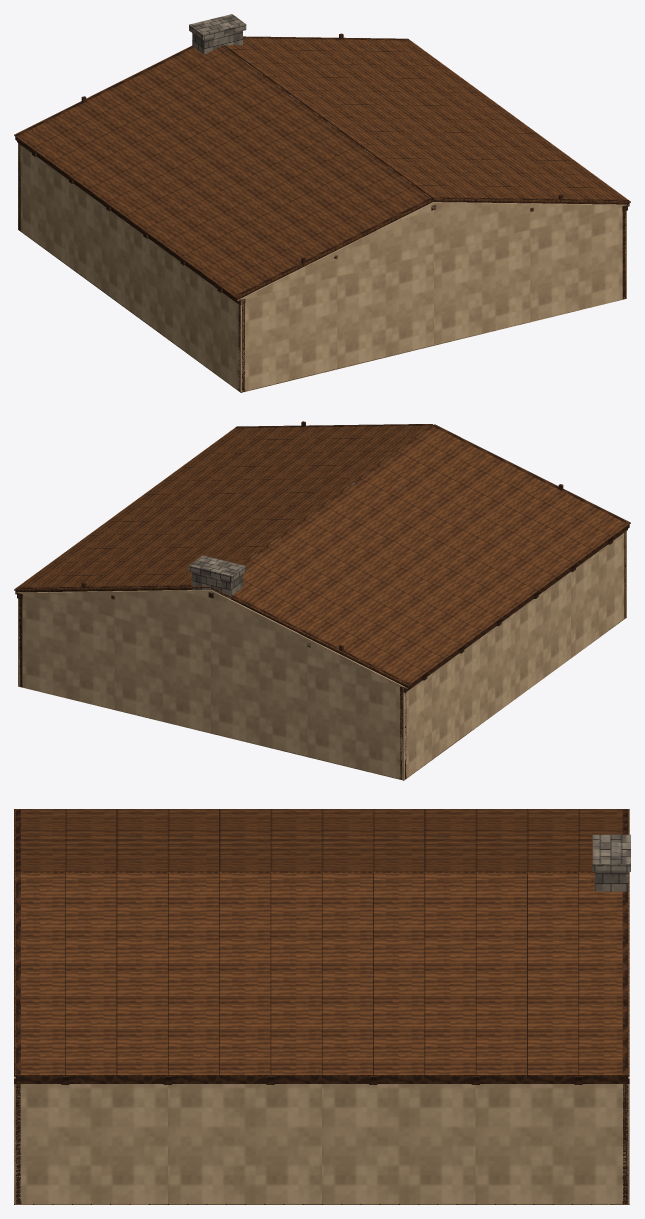
File: kitchen_room.glb
3 renders of one model, top to bottom at view 1: azimuth 30°, elevation 25°; view 2: azimuth 150°, elevation 25°; view 3: azimuth 270°, elevation 25°, orthographic. The views are drawn at different scales.
Parts seen in each view (by area): view 1: Room_K_floorplank, Room_K_plaster, Room_K_darkwood, Room_K_stone, Room_K_tile; view 2: Room_K_floorplank, Room_K_plaster, Room_K_darkwood, Room_K_stone, Room_K_tile; view 3: Room_K_floorplank, Room_K_plaster, Room_K_darkwood, Room_K_stone, Room_K_tile.
Boxes of the visible parts, x1,y1,x2,y2 form: Room_K_floorplank: [14, 36, 630, 298]; Room_K_plaster: [18, 60, 629, 392]; Room_K_darkwood: [15, 33, 629, 392]; Room_K_stone: [189, 14, 246, 60]; Room_K_tile: [18, 149, 626, 392]; Room_K_floorplank: [14, 424, 630, 686]; Room_K_plaster: [15, 431, 626, 779]; Room_K_darkwood: [15, 421, 629, 779]; Room_K_stone: [189, 555, 246, 599]; Room_K_tile: [18, 537, 626, 780]; Room_K_floorplank: [14, 809, 629, 1076]; Room_K_plaster: [14, 1076, 629, 1203]; Room_K_darkwood: [14, 809, 629, 1204]; Room_K_stone: [592, 834, 630, 891]; Room_K_tile: [14, 1204, 629, 1204].
Size of the model in its own units: 24.52 by 9.77 by 24.05.
20 materials, 20 textured.
